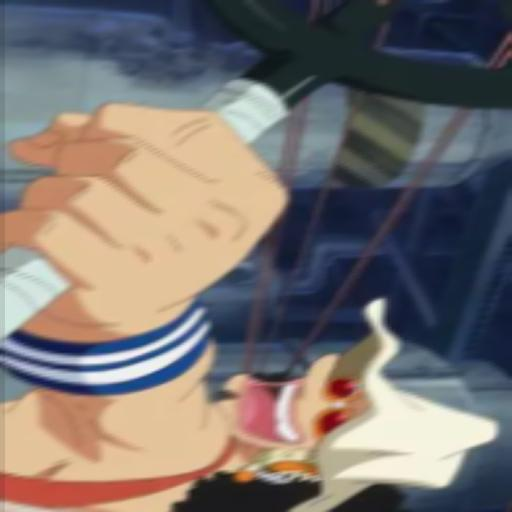Usopp: (0, 86, 505, 512)
